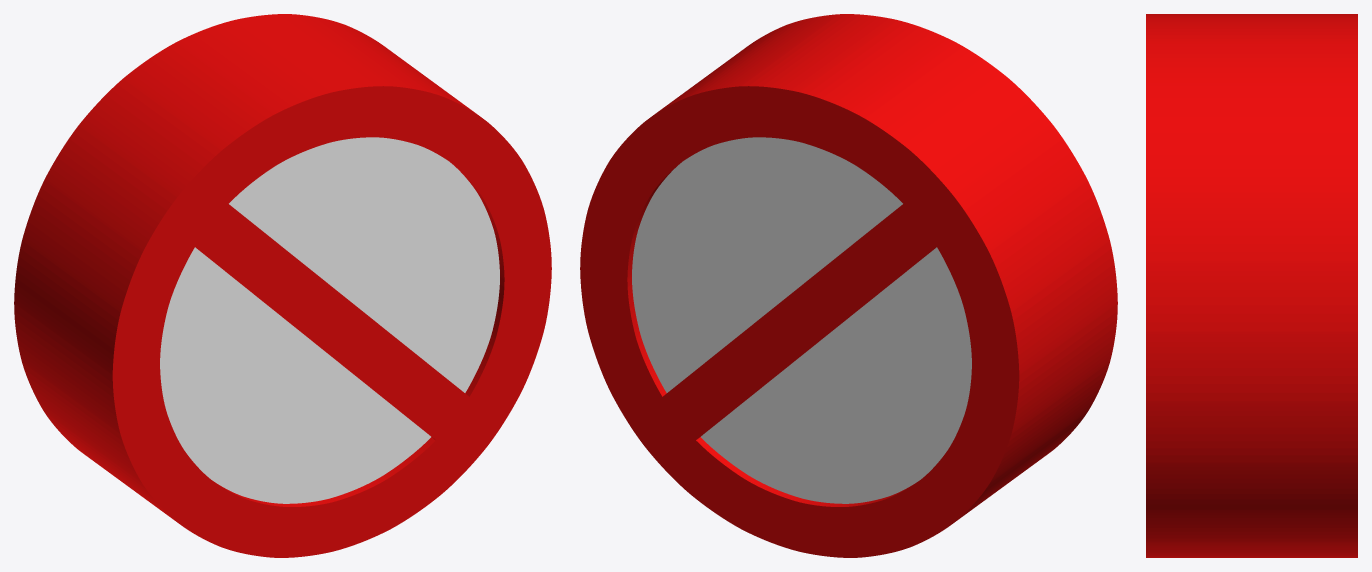
3 renders of one model, left to right at view 1: azimuth 30°, elevation 25°; view 2: azimuth 150°, elevation 25°; view 3: azimuth 270°, elevation 25°, orthographic. The views are drawn at different scales.
Visible parts, largest first — view 1: U+1F6AB_layer01_obj00, U+1F6AB_layer00_obj00; view 2: U+1F6AB_layer01_obj00, U+1F6AB_layer00_obj00; view 3: U+1F6AB_layer01_obj00.
Boxes of the visible parts, x1=… form: U+1F6AB_layer01_obj00: x1=14, y1=14, x2=551, y2=557; U+1F6AB_layer00_obj00: x1=160, y1=137, x2=499, y2=503; U+1F6AB_layer01_obj00: x1=580, y1=14, x2=1117, y2=557; U+1F6AB_layer00_obj00: x1=632, y1=137, x2=971, y2=503; U+1F6AB_layer01_obj00: x1=1146, y1=14, x2=1357, y2=557.
Size of the model in its own units: 0.5659 by 0.5657 by 0.22.
